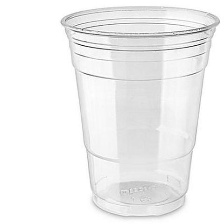glass: (57, 2, 224, 219)
